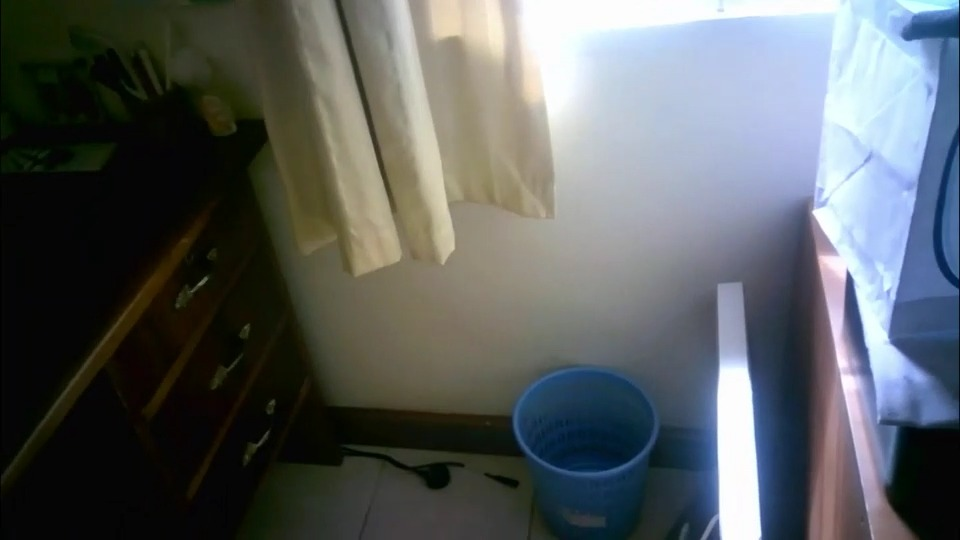wheat_flour_blue_label: (811, 6, 946, 339)
